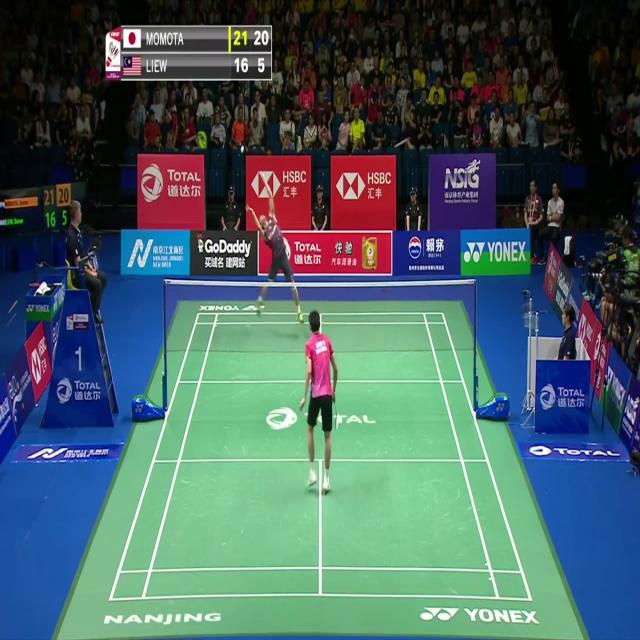Shuttlecock: (239, 144, 246, 156)
